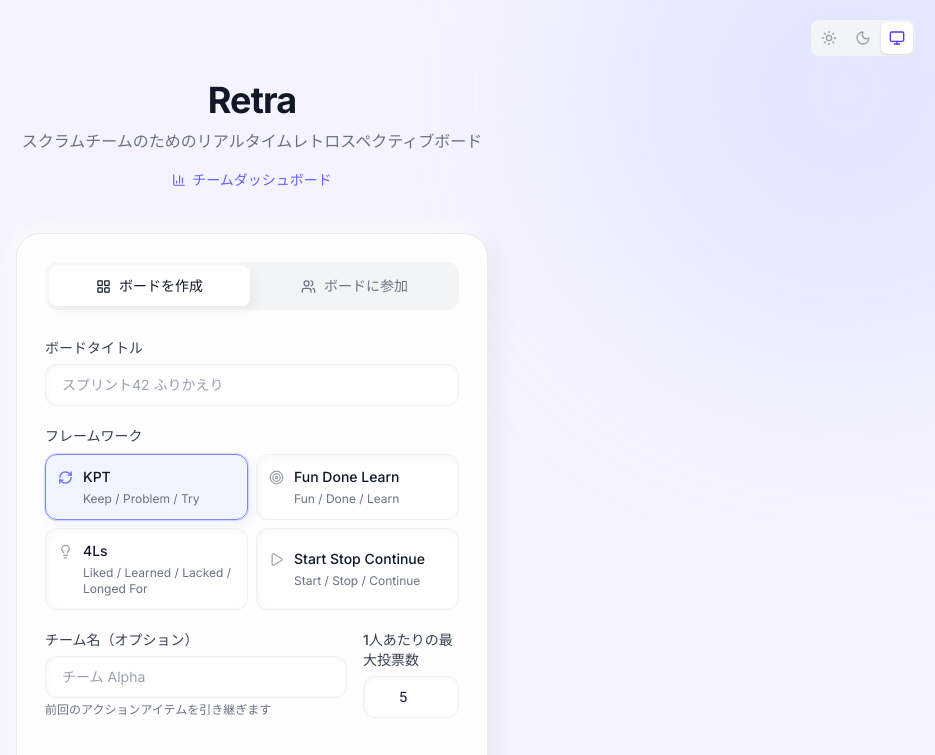
Scenario: HomePage › switching between create and join modes
Check: the text "ボードタイトル" is shown, box left=45, top=339, right=143, bottom=356
# Switch to join mode - "ボードに参加" appears once (tab only) in create mode
Click the button "ボードに参加". click: (354, 286)
box: left=254, top=266, right=455, bottom=306
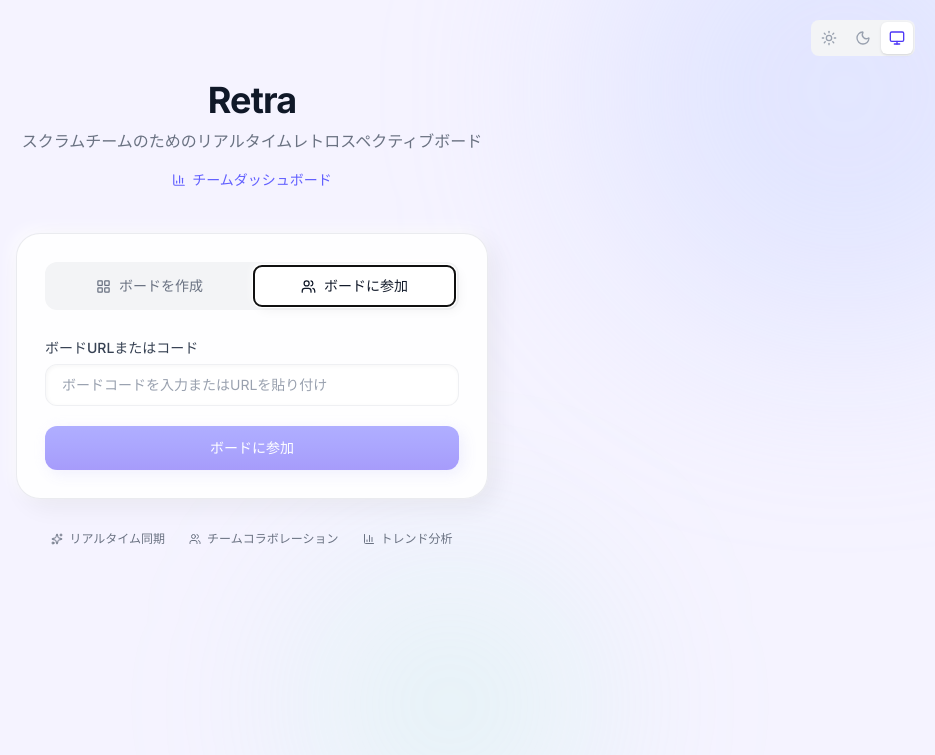
Check: the text "ボードURLまたはコード" is shown, box left=45, top=339, right=198, bottom=356
Check: the text "ボードタイトル" is gone
# Switch back to create mode - "ボードを作成" appears once (tab only) in join mode
Click the button "ボードを作成". click: (150, 286)
box: left=49, top=266, right=250, bottom=306
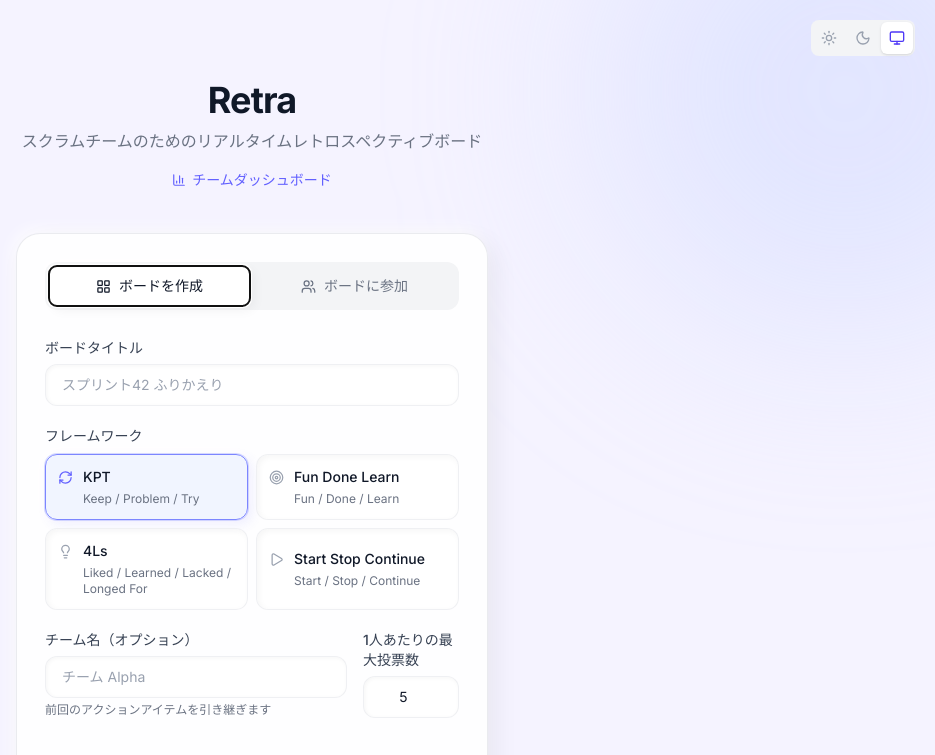
Check: the text "ボードタイトル" is shown, box left=45, top=339, right=143, bottom=356
Check: the text "ボードURLまたはコード" is gone
